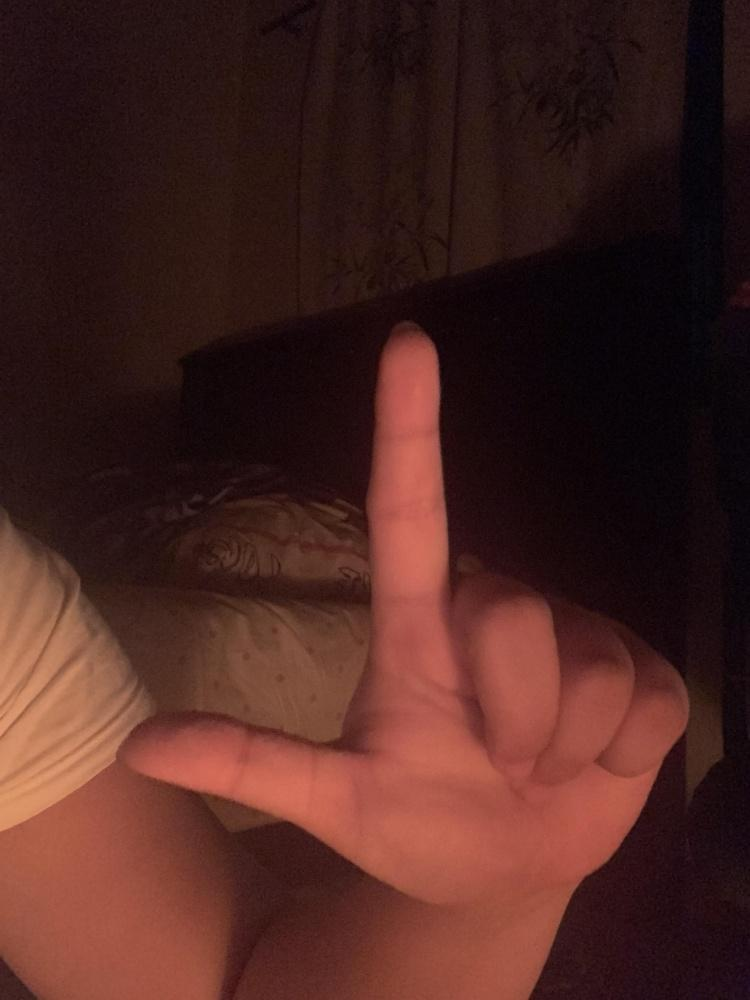l: (107, 321, 692, 906)
